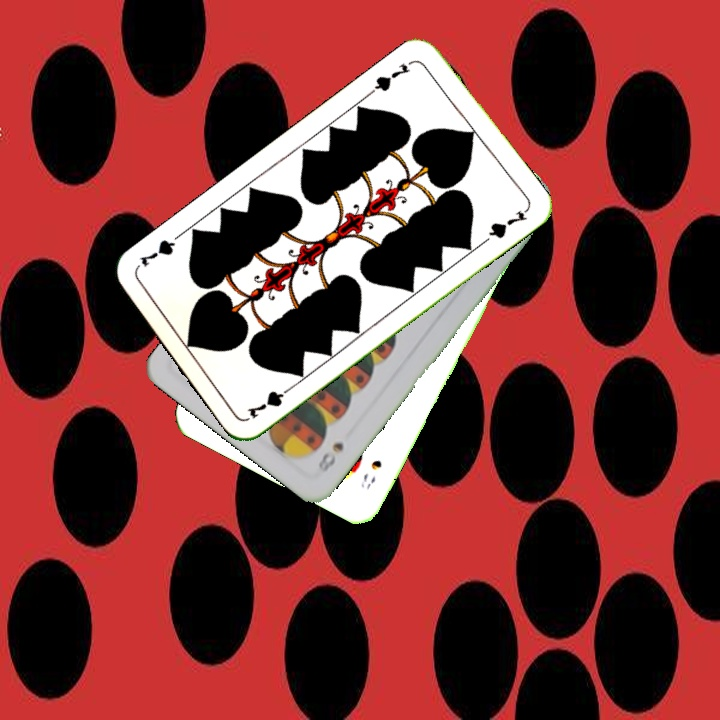G7: (243, 380, 298, 422), (366, 59, 413, 97)
S8: (313, 438, 347, 476), (356, 455, 385, 491)
